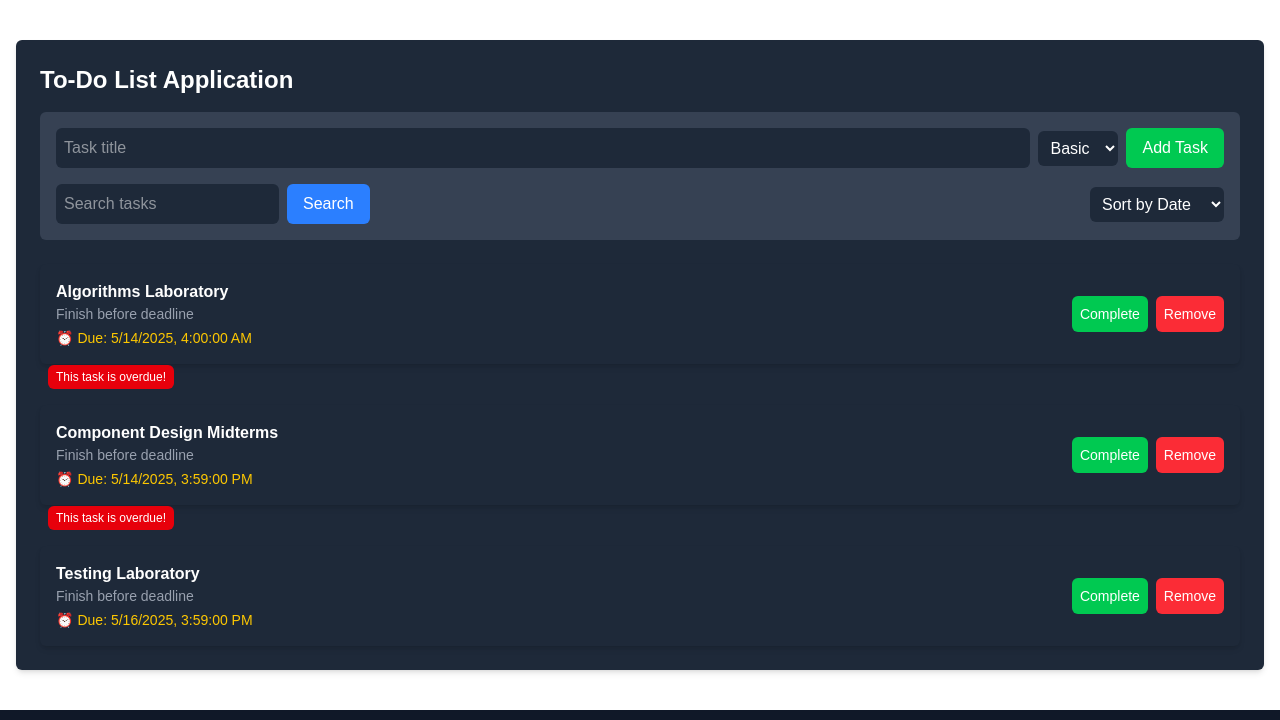
Test: Todo App Edge Cases › prevents adding a timed task with no due date
Select "Timed" in the 1st dropdown: (1079, 149) [1039,131,1119,166]
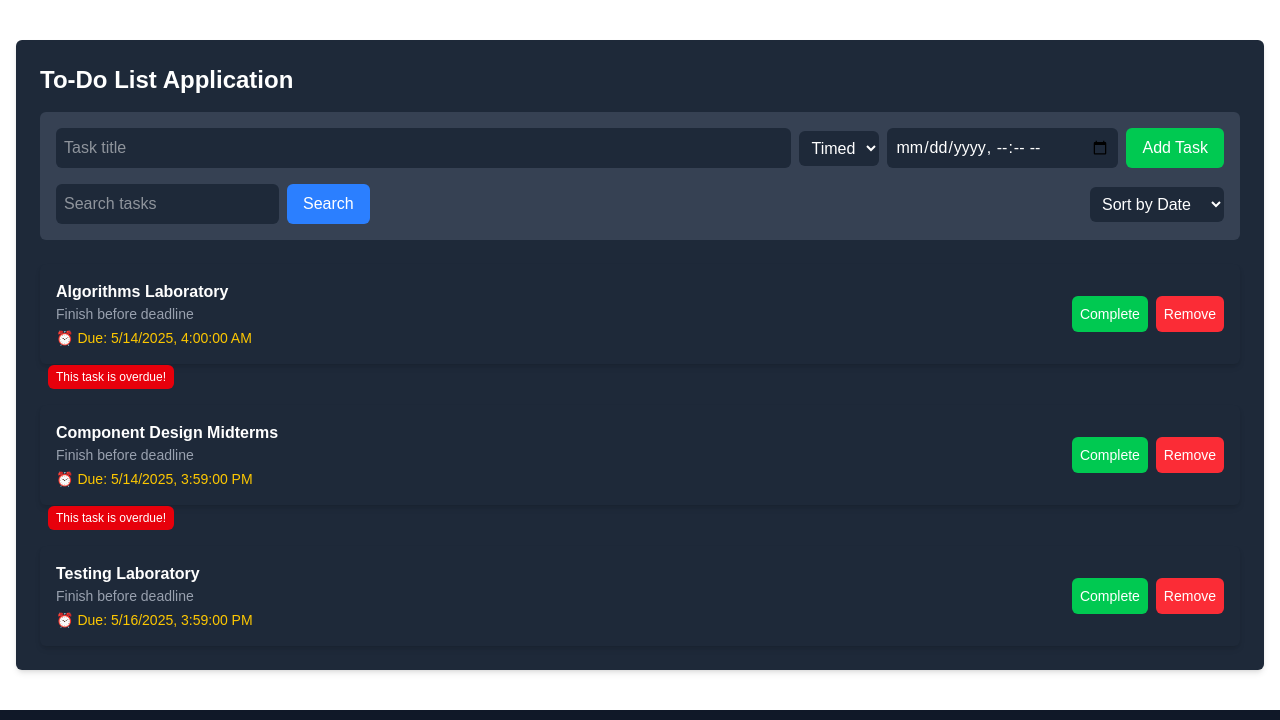
In the field with placeholder "Task title": (424, 148) [56,128,792,168], type "Task without date"
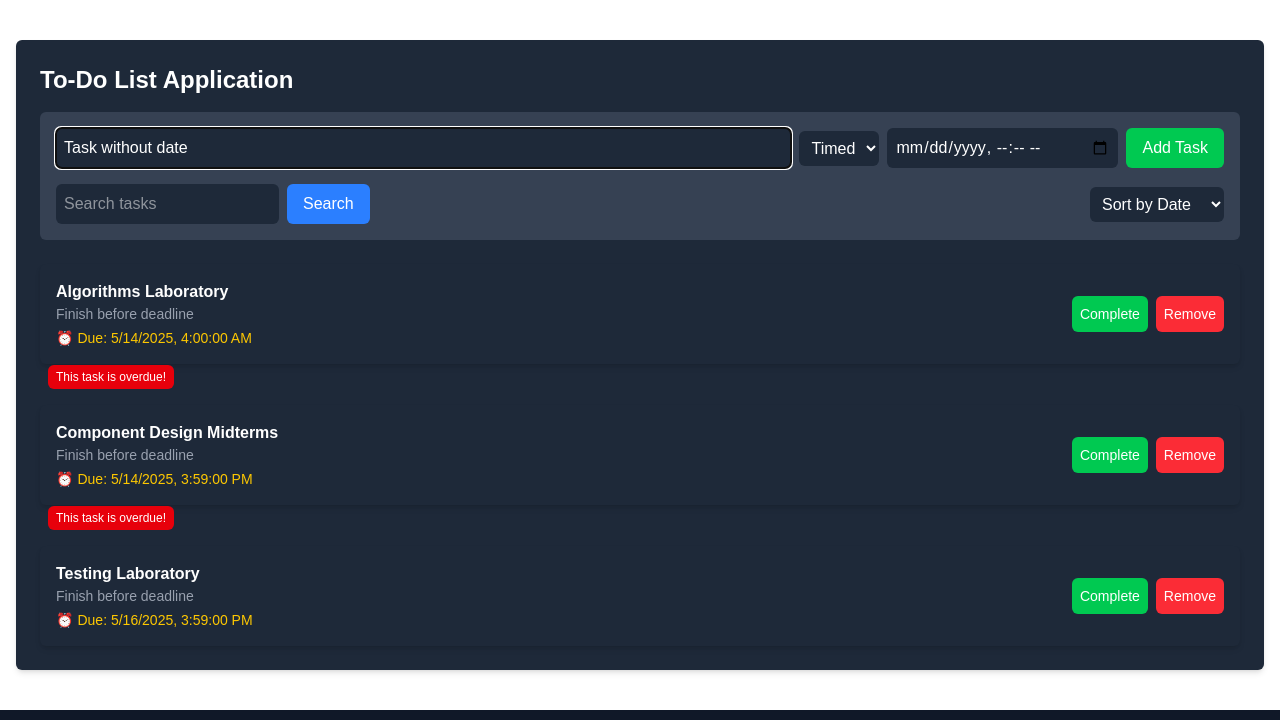
Click the button "Add Task": (1176, 148) [1127,128,1225,168]
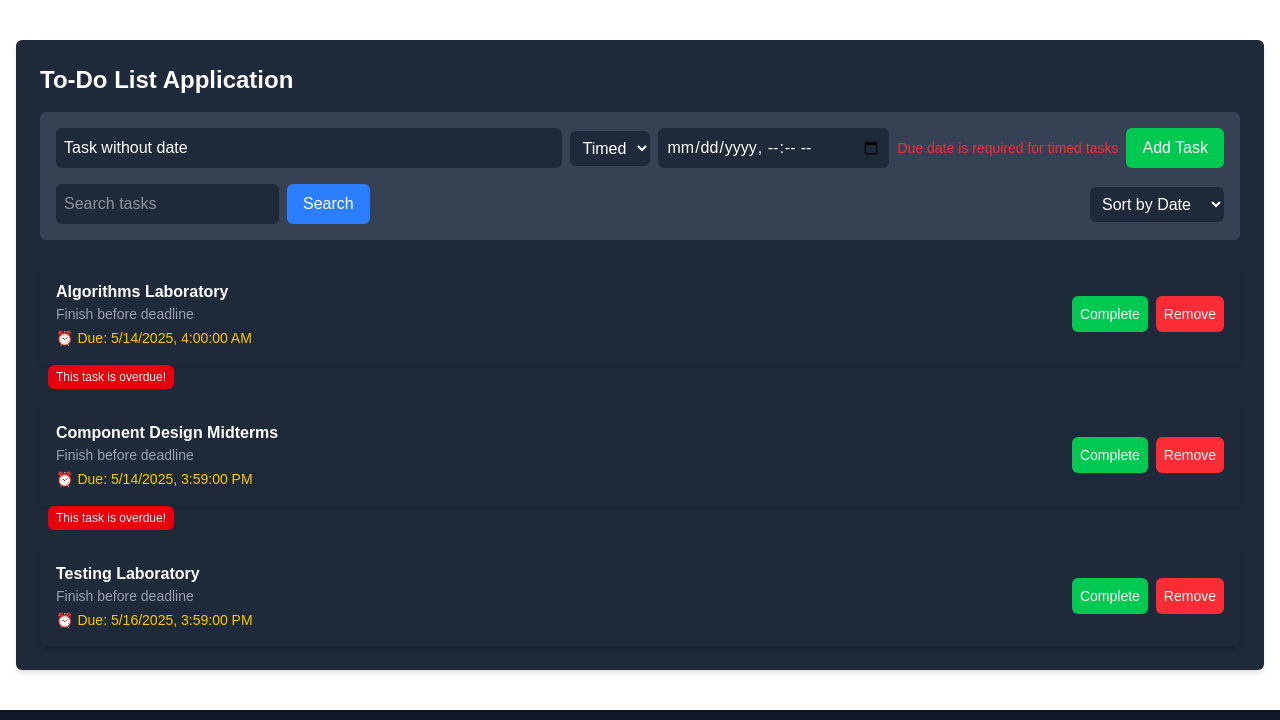
Expected: the text "Due date is required" is shown, [897,140,1118,156]
